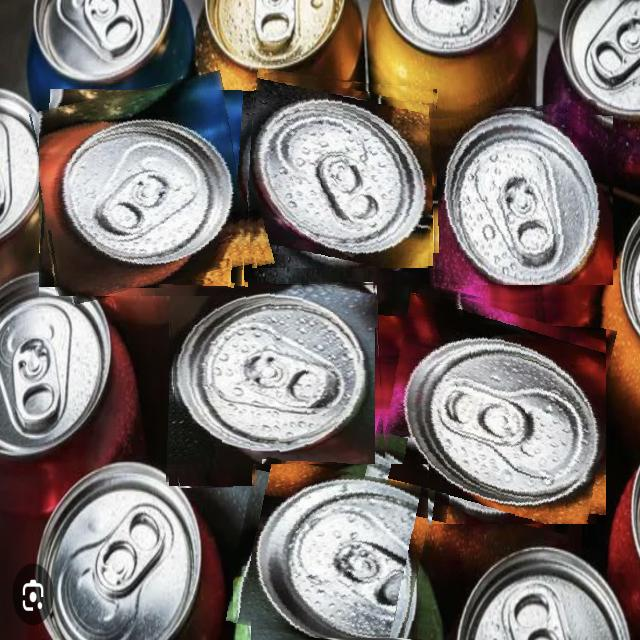recyclable: (374, 292, 606, 524), (39, 80, 255, 296), (168, 280, 375, 488), (239, 74, 433, 268), (233, 464, 429, 640), (429, 104, 613, 285)
